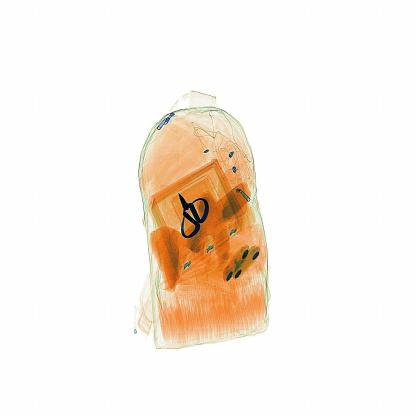gun: (164, 185, 216, 247)
